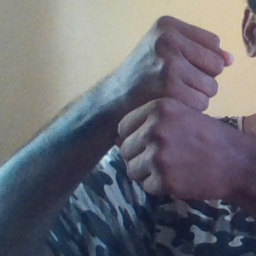G: (117, 11, 238, 208)
